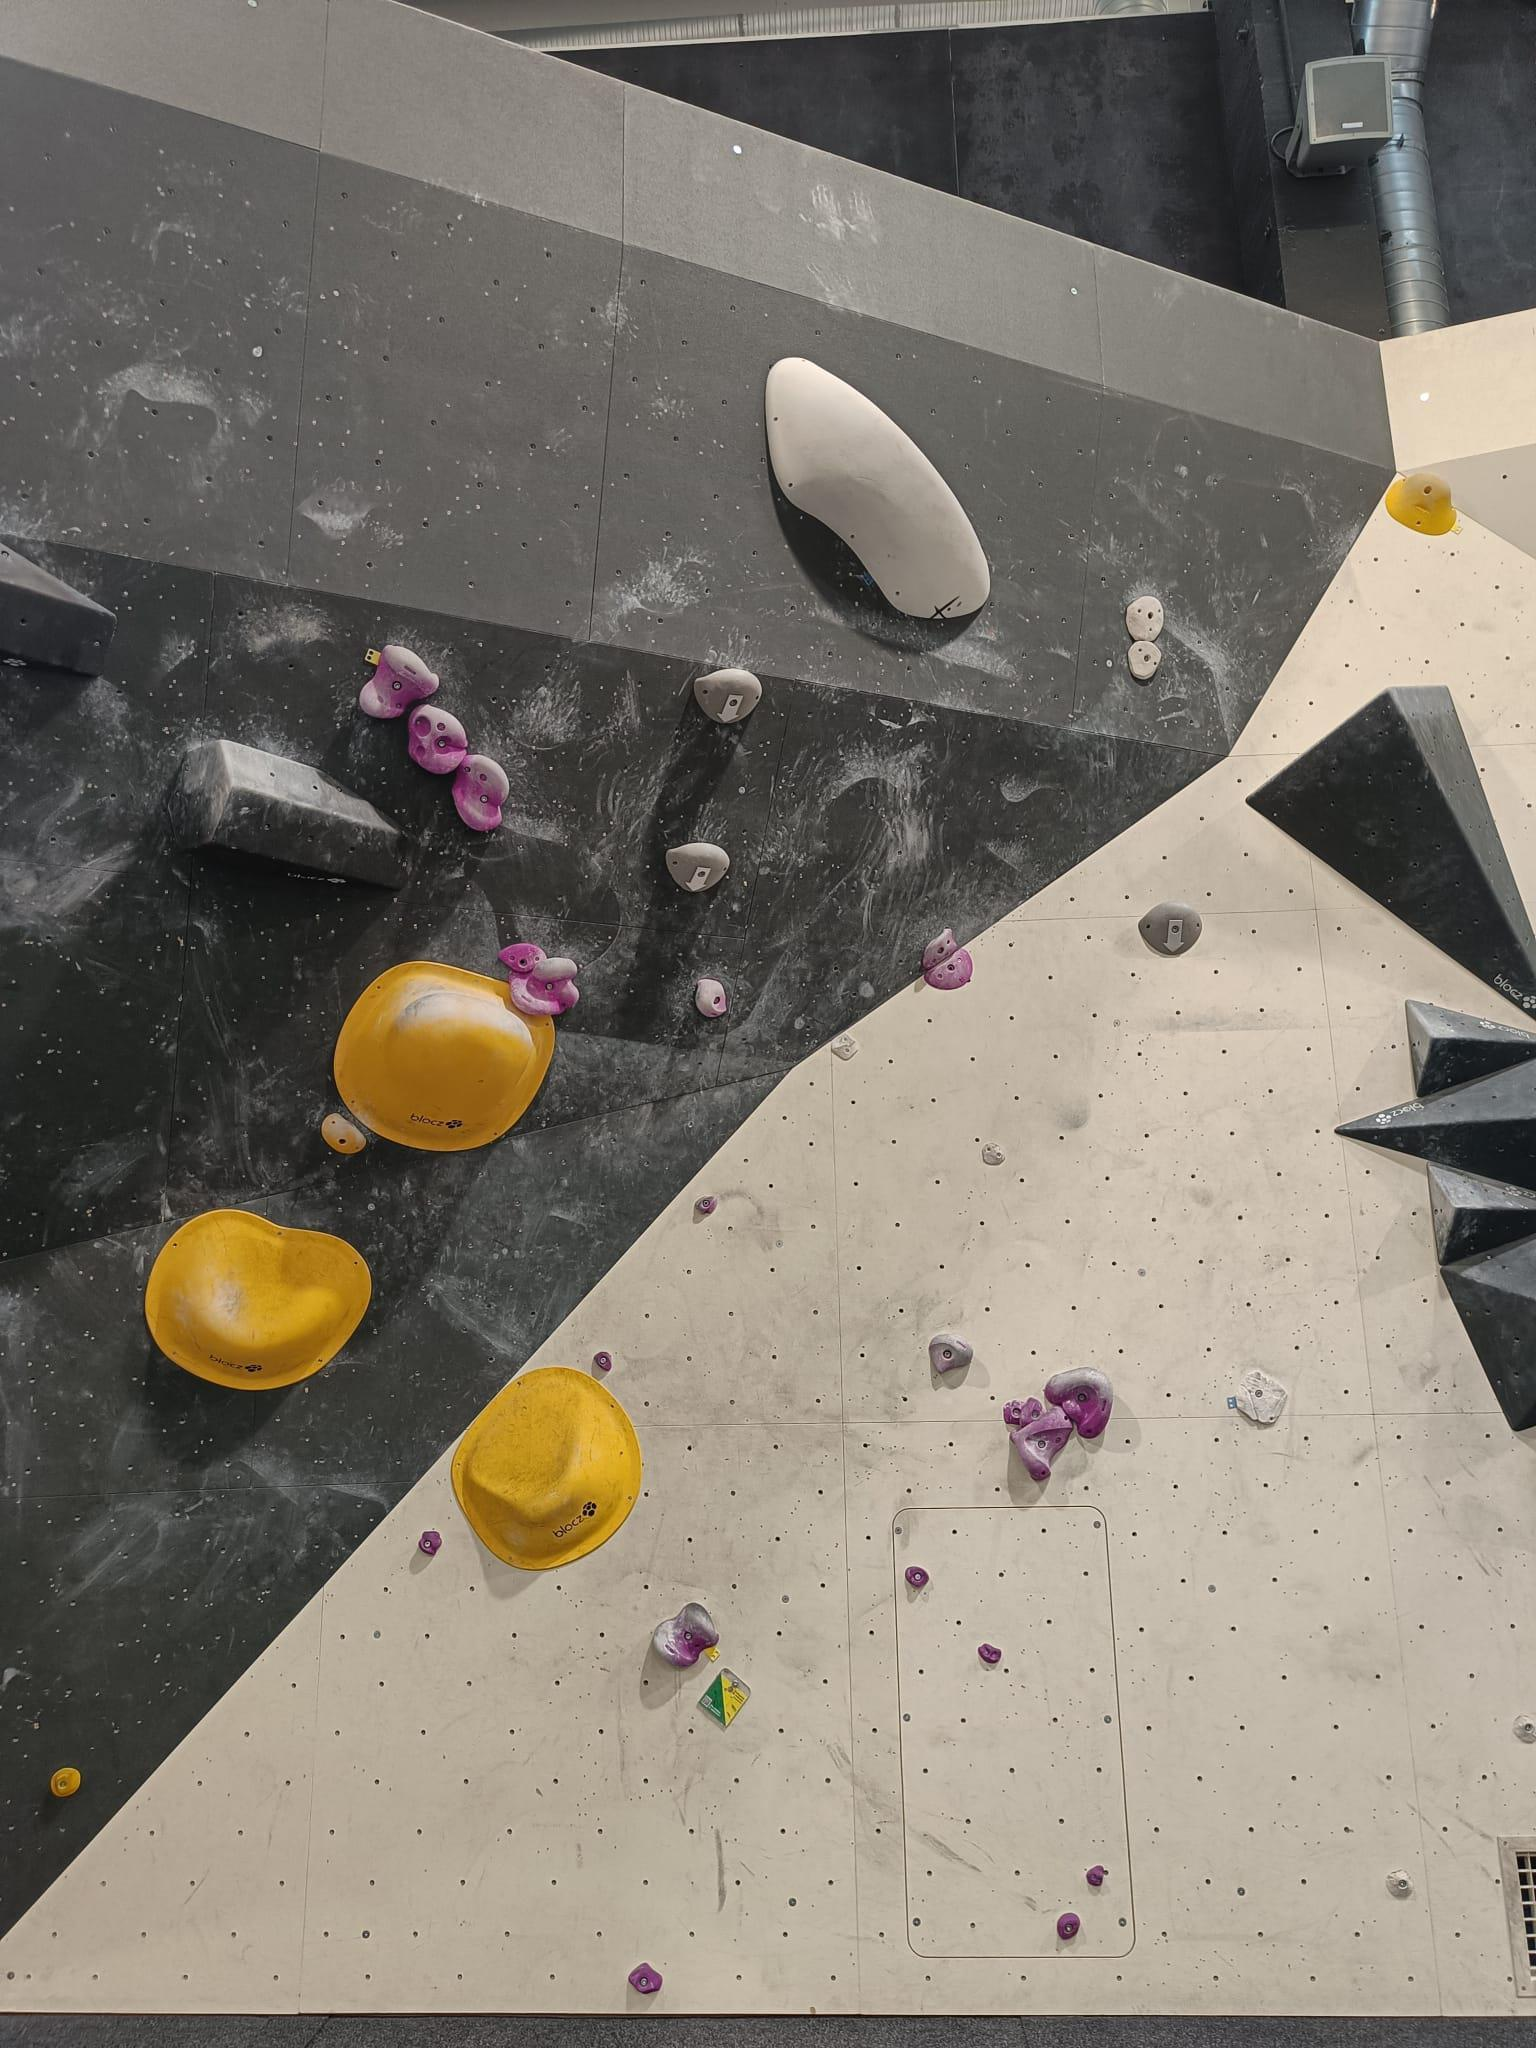hold: (765, 356, 991, 619), (334, 961, 555, 1151), (147, 1208, 371, 1390), (452, 1367, 642, 1569), (360, 643, 442, 721), (1008, 1403, 1075, 1482), (1046, 1367, 1113, 1438), (1386, 471, 1457, 535), (452, 755, 508, 830), (407, 705, 468, 774), (507, 958, 579, 1016), (653, 1603, 720, 1666), (694, 668, 763, 724), (1139, 900, 1202, 958), (666, 842, 729, 893), (1236, 1371, 1288, 1426), (925, 950, 973, 990), (321, 1113, 366, 1155), (929, 1334, 973, 1374), (1126, 595, 1165, 640), (923, 929, 960, 969), (497, 943, 547, 972), (695, 977, 728, 1018), (1128, 640, 1160, 679), (628, 1963, 663, 1993), (50, 1767, 82, 1798), (1386, 1869, 1415, 1898), (831, 1032, 858, 1061), (1021, 1397, 1044, 1427), (418, 1530, 444, 1556), (1057, 1913, 1081, 1940), (1512, 1716, 1536, 1743), (1004, 1400, 1026, 1426), (905, 1566, 929, 1588), (983, 1143, 1005, 1166), (978, 1643, 1002, 1664), (694, 1195, 718, 1214), (592, 1351, 613, 1372), (1086, 1866, 1105, 1887)
volume: (1246, 685, 1536, 1021), (166, 739, 419, 892), (1333, 1058, 1536, 1190), (1439, 1232, 1536, 1432), (0, 539, 121, 677), (1405, 998, 1536, 1098), (1425, 1159, 1536, 1266)
